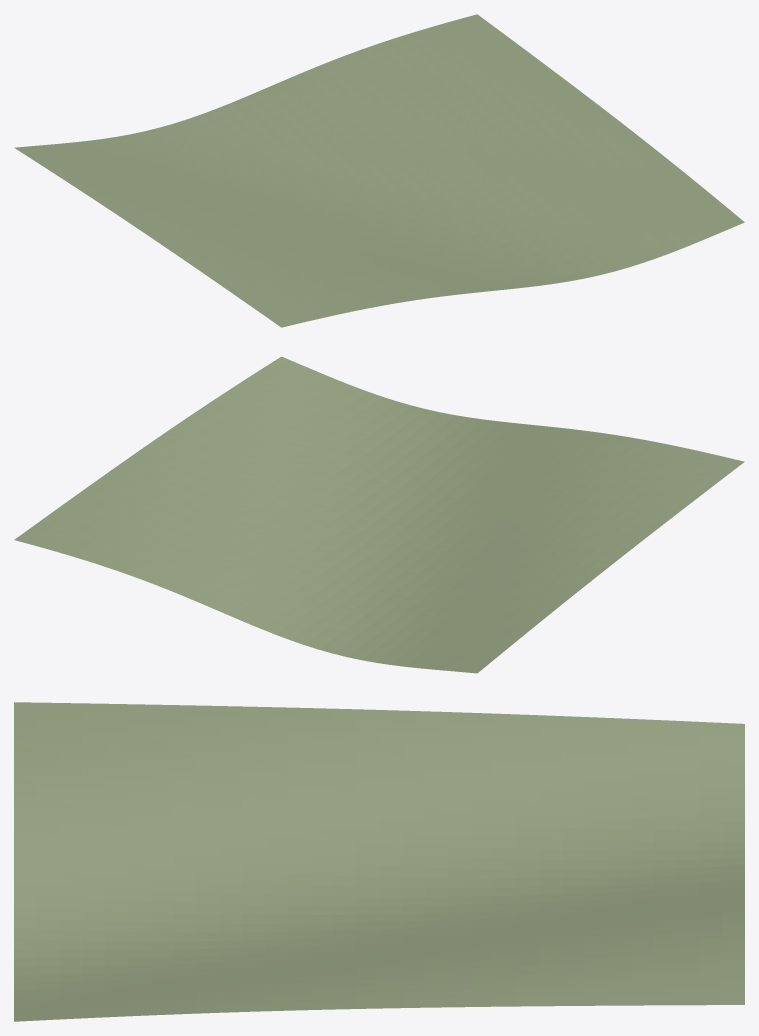
The model's file is desert-11-16.glb.
3 views of the same model, one above another, from view 1: azimuth 30°, elevation 25°; view 2: azimuth 150°, elevation 25°; view 3: azimuth 270°, elevation 25° (orthographic). The views are drawn at different scales.
Parts seen in each view (by area): view 1: desert-11-16; view 2: desert-11-16; view 3: desert-11-16.
Part boxes in pixels (<box>): desert-11-16: <box>14,14,744,327</box>; desert-11-16: <box>14,356,744,673</box>; desert-11-16: <box>14,702,744,1021</box>.
Bounding box in the file's own units: 512 × 37.83 × 512.
